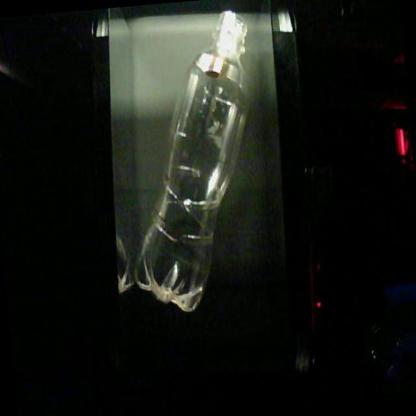Plastic Bottle: (135, 10, 249, 312)
